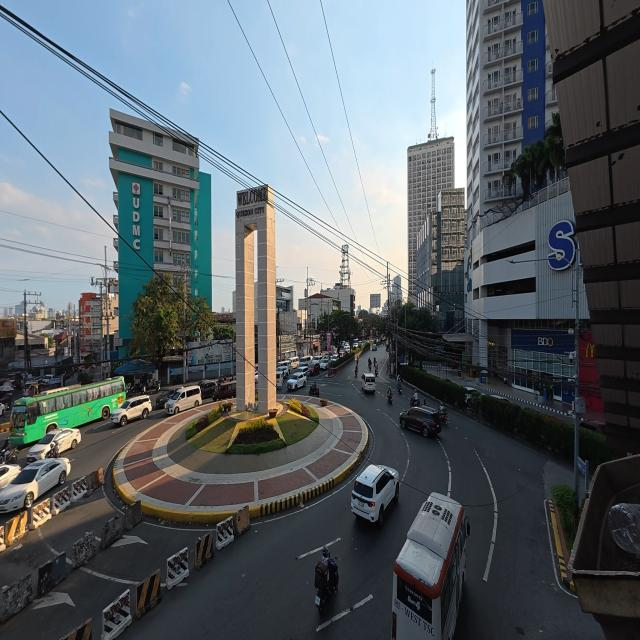bus: (392, 493, 469, 639), (10, 377, 125, 445)
car: (0, 458, 70, 512), (351, 464, 399, 526), (27, 428, 81, 463), (111, 395, 152, 427), (400, 407, 441, 436), (0, 464, 21, 490), (212, 380, 236, 401), (156, 387, 176, 408), (199, 379, 217, 399), (580, 420, 605, 434), (287, 372, 306, 390), (465, 387, 481, 403), (277, 360, 291, 375), (490, 394, 511, 403), (309, 362, 320, 375), (298, 365, 309, 377), (42, 374, 54, 384), (276, 366, 289, 375), (320, 360, 329, 370), (331, 353, 339, 362), (313, 356, 322, 362), (255, 370, 259, 383), (371, 344, 377, 352), (339, 351, 345, 357), (353, 341, 358, 348)
motorcycle: (315, 561, 338, 613), (0, 448, 18, 463), (143, 380, 160, 393), (440, 409, 448, 426), (309, 384, 319, 397), (410, 396, 420, 407), (387, 394, 392, 404), (355, 367, 358, 377), (375, 367, 378, 377), (398, 384, 401, 394), (369, 363, 371, 371)
vans: (166, 386, 201, 414), (362, 372, 375, 392), (277, 360, 291, 374), (276, 370, 285, 387), (290, 356, 299, 370), (300, 356, 313, 365)
